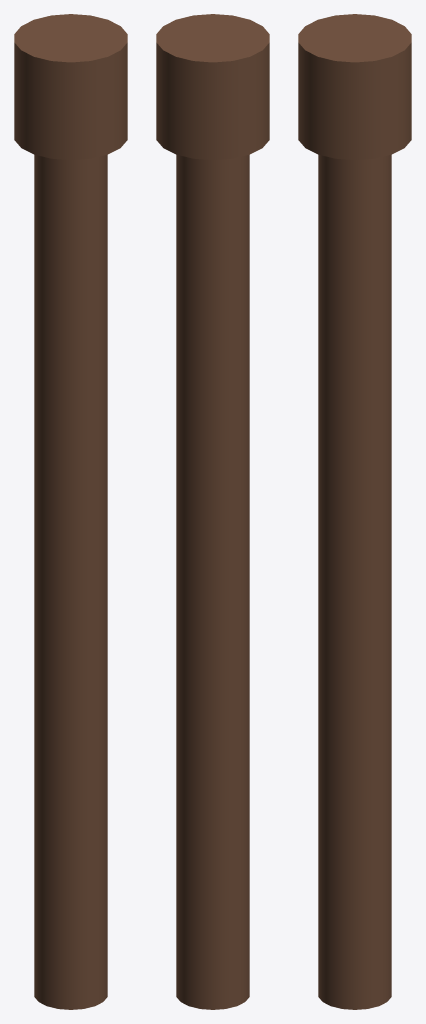
The model's file is Torch.FBX.
The picture shows the model from 3 angles, left to right: view 1: azimuth 30°, elevation 25°; view 2: azimuth 210°, elevation 25°; view 3: azimuth 330°, elevation 25°; orthographic projection.
Parts seen in each view (by area): view 1: Cylinder002; view 2: Cylinder002; view 3: Cylinder002.
Boxes of the visible parts, bbox=[...] form: Cylinder002: bbox=[14, 14, 127, 1009]; Cylinder002: bbox=[156, 14, 269, 1009]; Cylinder002: bbox=[298, 14, 411, 1009].
Size of the model in its own units: 7.82 by 71.87 by 7.7.
